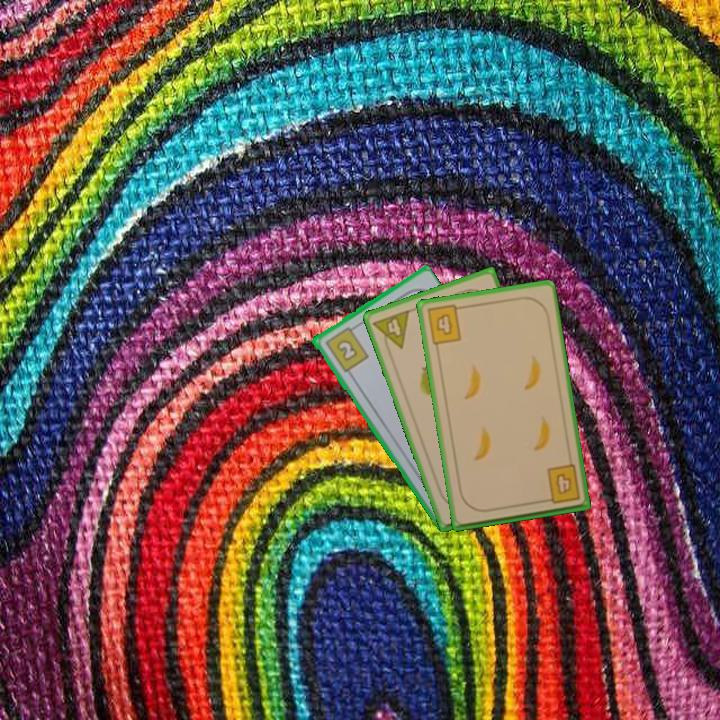2b: (321, 322, 371, 375)
4b: (539, 461, 583, 507), (423, 301, 466, 347)
4p: (369, 306, 412, 356)
